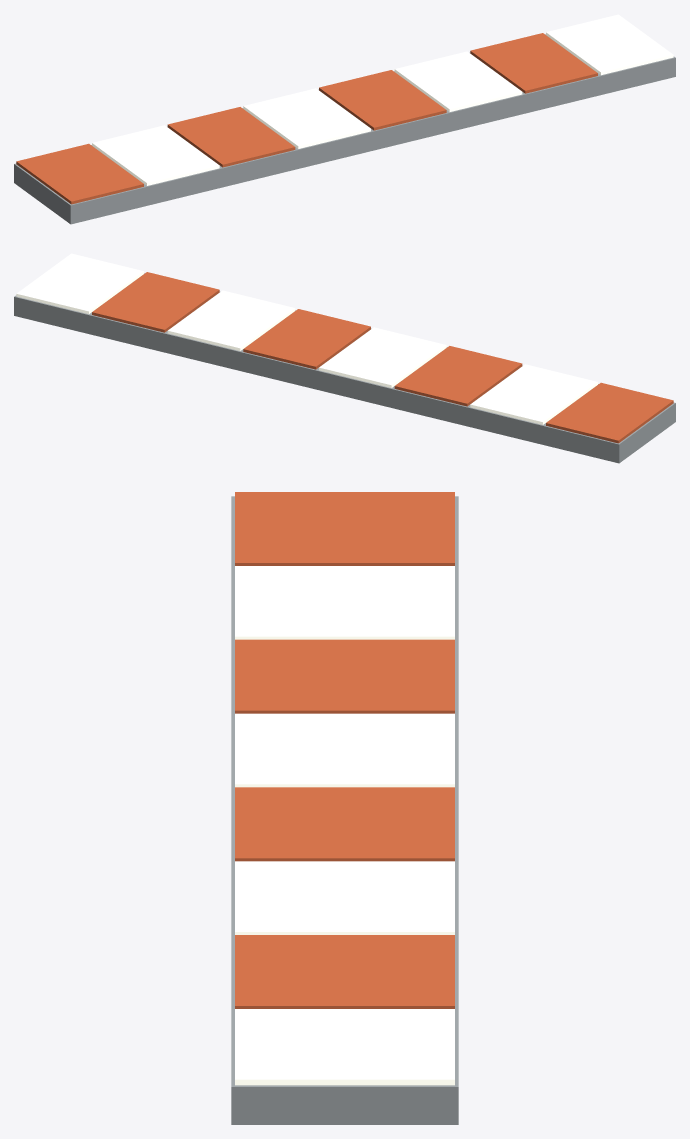
The model's file is endurance-and-gt-paddock-luminous-kerb-strip-58f616fb__14885.glb.
The picture shows the model from 3 angles, top to bottom: view 1: azimuth 30°, elevation 25°; view 2: azimuth 150°, elevation 25°; view 3: azimuth 270°, elevation 25°; orthographic projection. The views are drawn at different scales.
Parts seen in each view (by area): view 1: luminous-kerb-strip; view 2: luminous-kerb-strip; view 3: luminous-kerb-strip.
Part boxes in pixels (x1,y1,x2,y2): luminous-kerb-strip: (14,14,675,224); luminous-kerb-strip: (14,253,675,463); luminous-kerb-strip: (231,492,458,1124).
Bounding box in the file's own units: 4 × 0.138 × 0.6499.
